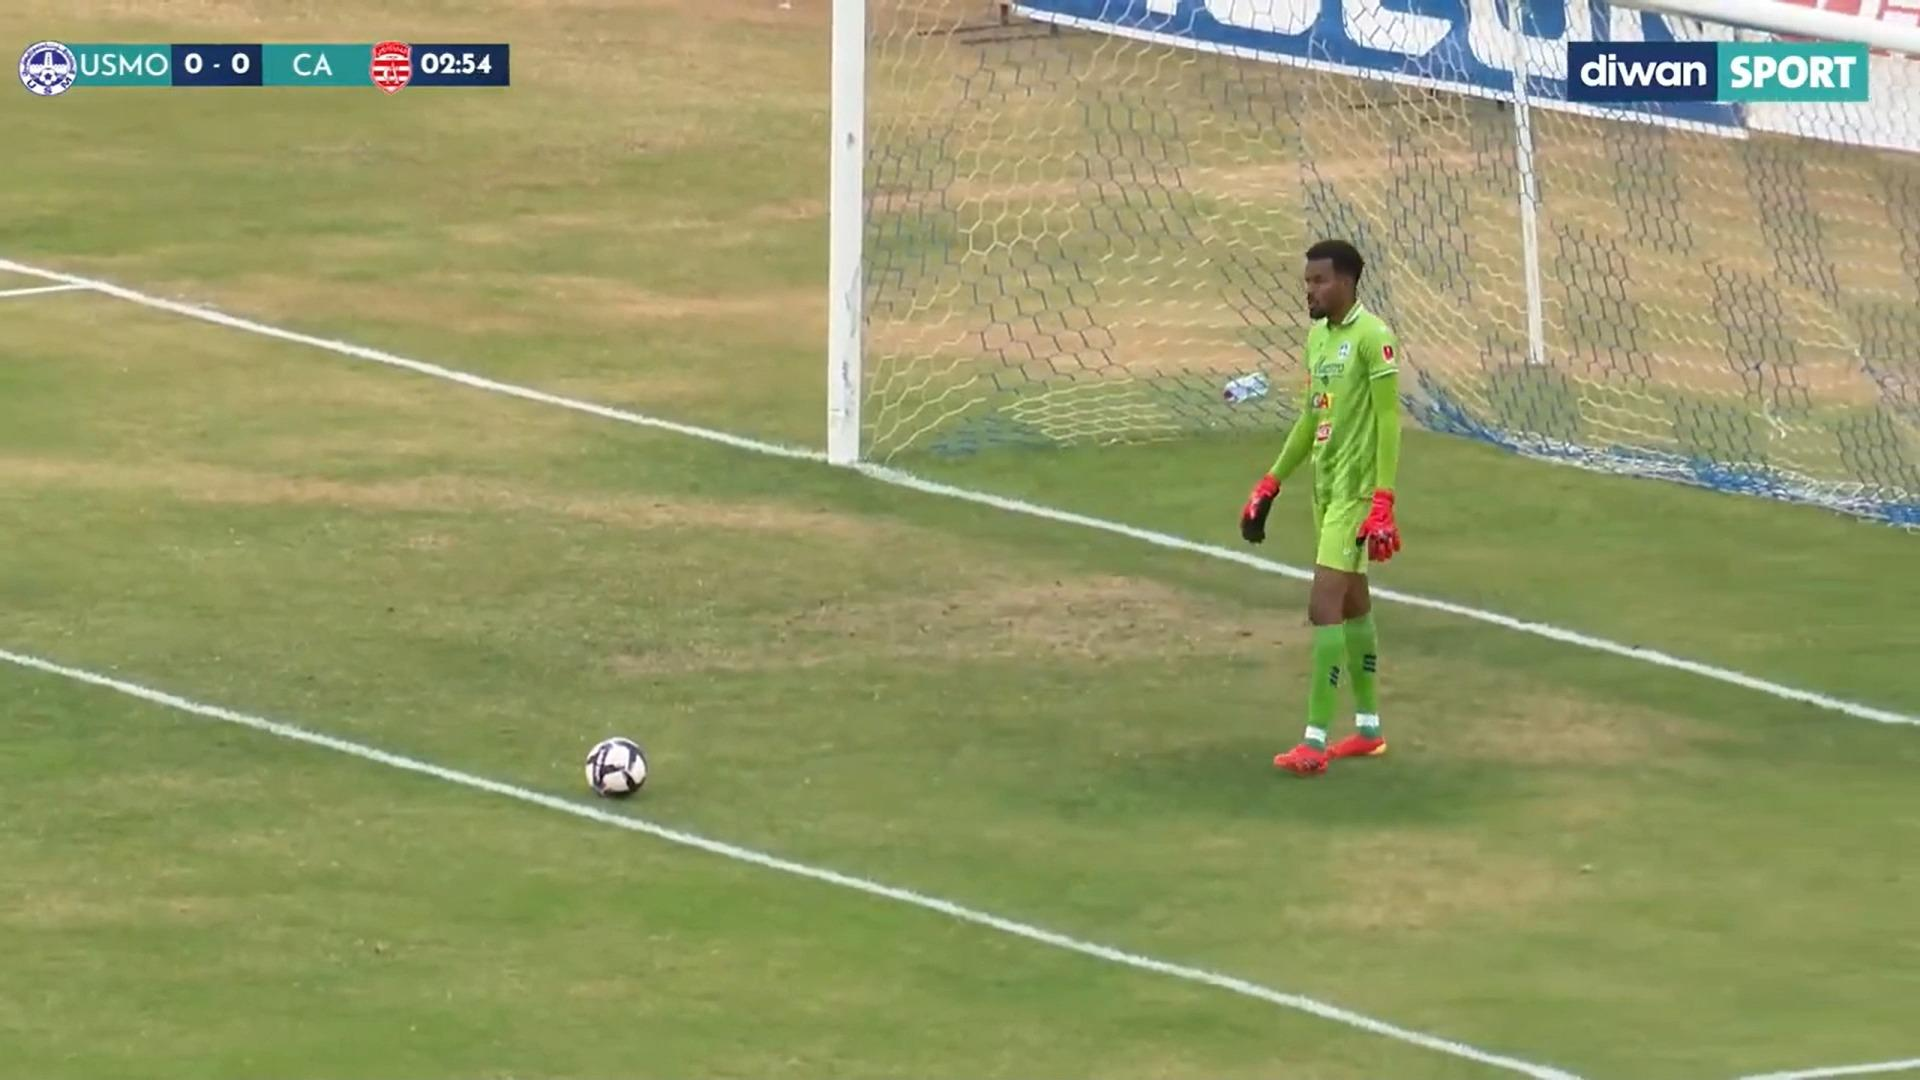ball: (571, 723, 669, 808)
goalkeeper: (1225, 214, 1439, 790)
